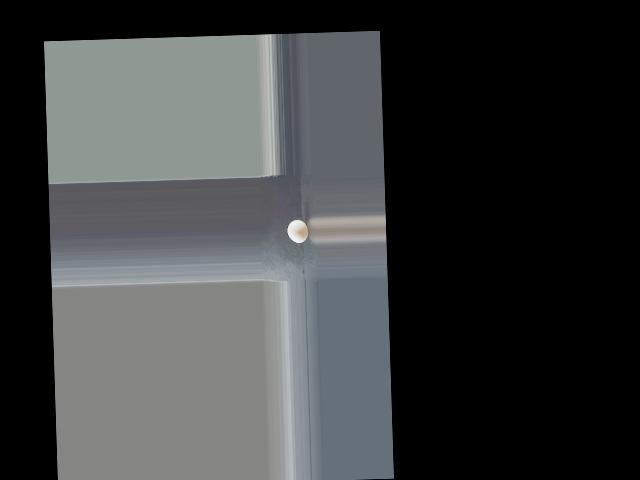egg: (286, 220, 308, 243)
